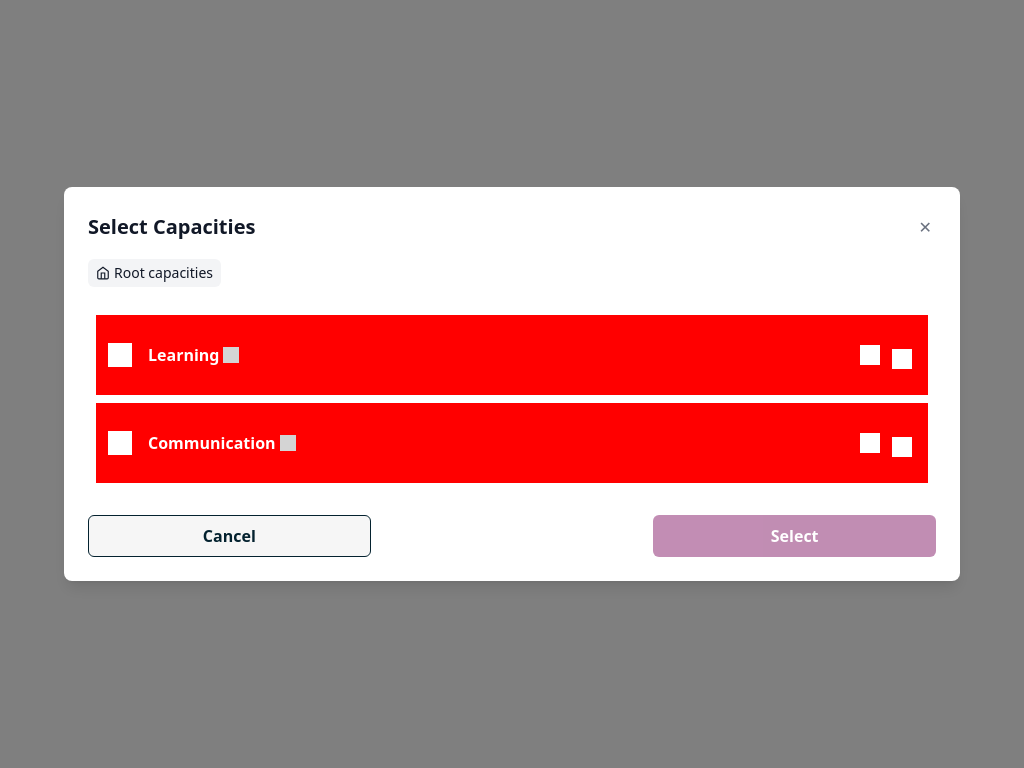
CapacitySelectionModal › Multiple Selection › should show visual indicators for selected capacities
Expected: the text "Learning" is shown, [148, 343, 220, 367]
Expected: the text "Communication" is shown, [148, 431, 276, 455]
What coordinates should you click on to do the following:
click the button "Learning"
I would click on:
 (184, 355)
Its box is [108, 341, 916, 369].
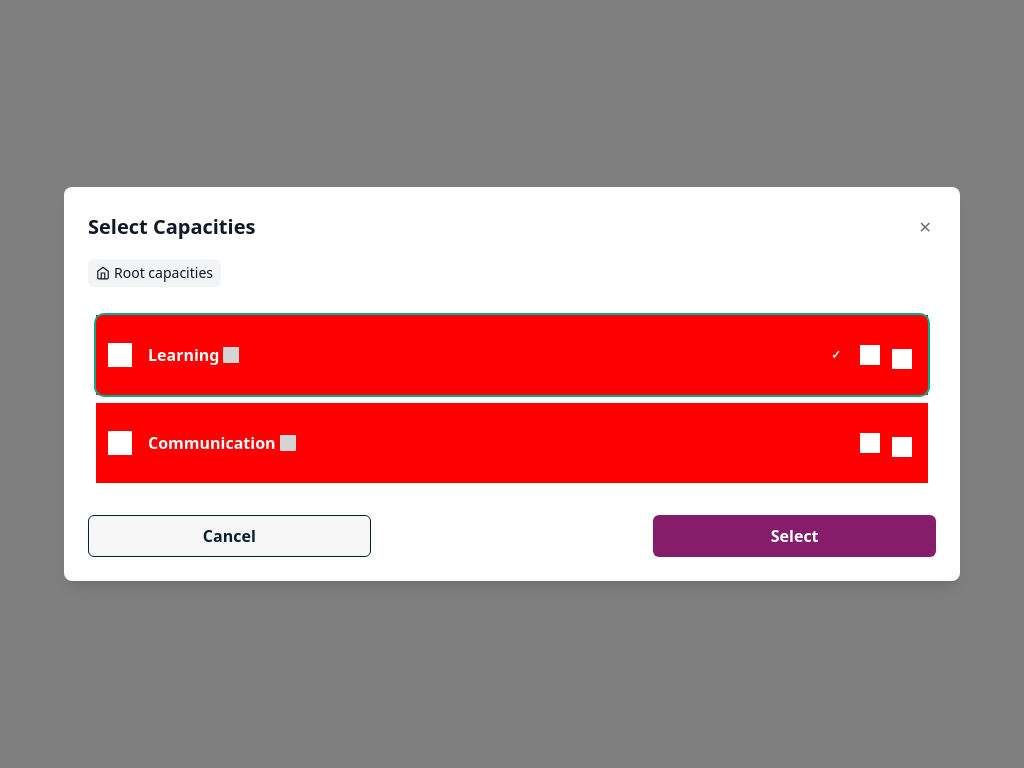
Result: the text "✓" is shown at [831, 347, 841, 363]
